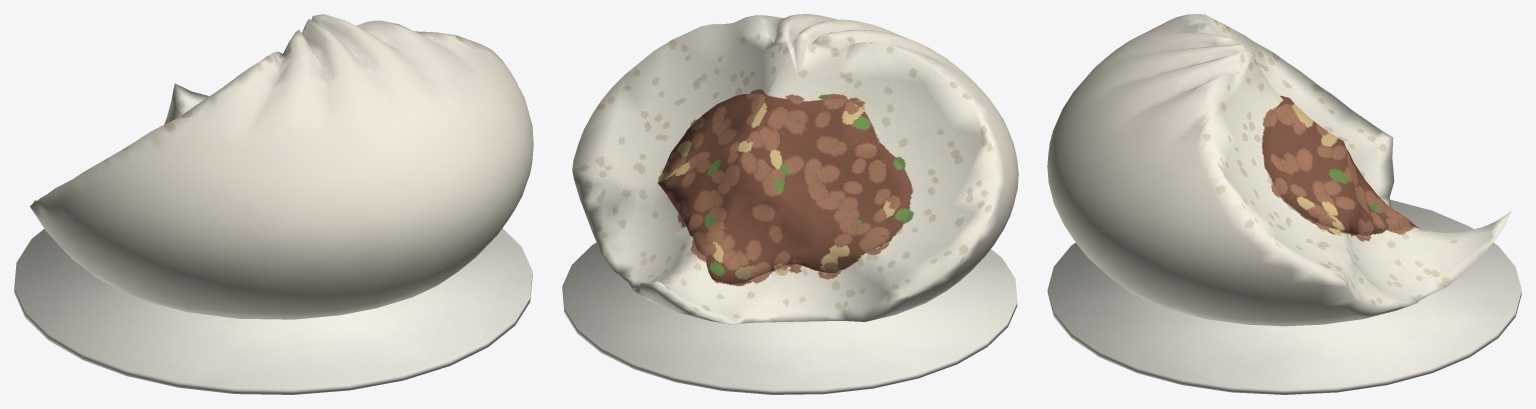
File: nikuman_b2.glb
3 renders of one model, left to right at view 1: azimuth 30°, elevation 25°; view 2: azimuth 150°, elevation 25°; view 3: azimuth 270°, elevation 25°, orthographic. The views are drawn at different scales.
Visible parts, largest first — view 1: prop_nikuman_b2_felt; view 2: prop_nikuman_b2_felt; view 3: prop_nikuman_b2_felt.
Boxes of the visible parts, box(x1,y1,x2,y2) form: prop_nikuman_b2_felt: box(14, 14, 533, 394); prop_nikuman_b2_felt: box(562, 14, 1018, 394); prop_nikuman_b2_felt: box(1047, 14, 1521, 394).
Bounding box in the file's own units: 0.1654 × 0.0984 × 0.1652.
Materials: 1 (1 with a texture image).
